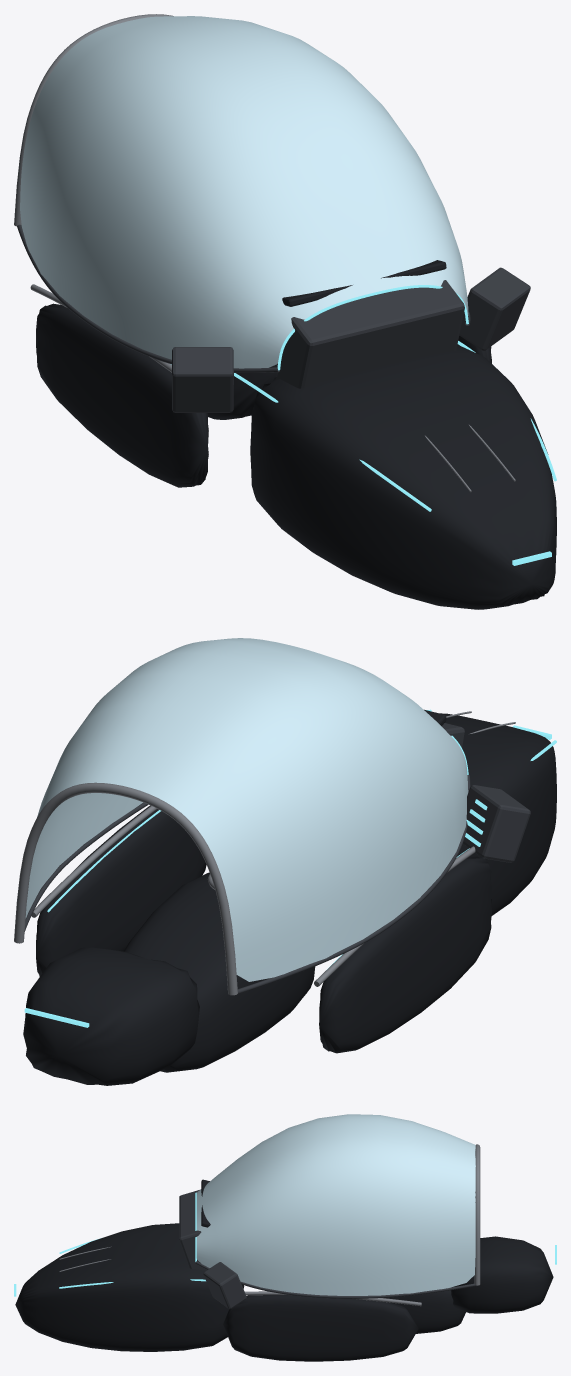
Rendered from cockpit-v2.glb.
3 renders of one model, top to bottom at view 1: azimuth 30°, elevation 25°; view 2: azimuth 150°, elevation 25°; view 3: azimuth 270°, elevation 25°, orthographic. The views are drawn at different scales.
Visible parts, largest first — view 1: Canopy, Body, Satin, Trim; view 2: Canopy, Body, Satin, Alloy, Trim; view 3: Canopy, Body, Satin, Alloy, Trim.
Part boxes in pixels (bbox=[...]): Canopy: bbox=[14, 14, 470, 372]; Body: bbox=[36, 260, 556, 609]; Satin: bbox=[172, 267, 530, 412]; Trim: bbox=[171, 341, 556, 565]; Canopy: bbox=[14, 638, 470, 995]; Body: bbox=[23, 709, 556, 1085]; Satin: bbox=[442, 723, 530, 862]; Alloy: bbox=[31, 711, 515, 986]; Trim: bbox=[24, 709, 556, 1027]; Canopy: bbox=[195, 1114, 480, 1298]; Body: bbox=[15, 1179, 553, 1361]; Satin: bbox=[179, 1190, 246, 1309]; Alloy: bbox=[59, 1246, 421, 1306]; Trim: bbox=[14, 1238, 556, 1296].
Bounding box in the file's own units: 1.14 × 1.1 × 2.63.
